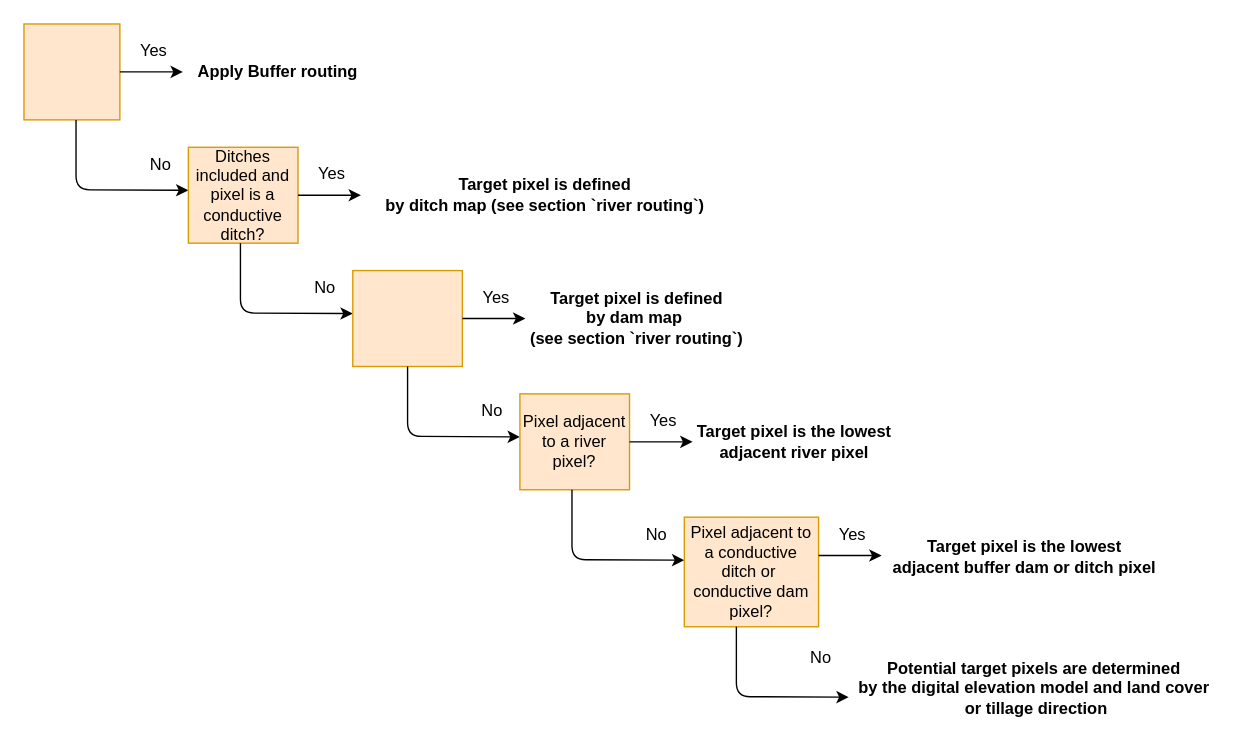
Some shapes in this 1243 by 747 pixel diagram are drawn without their labels. Each missing label, with the box of its shape:
Buffers included and pixel is a buffer?: (23, 23, 120, 120)
Dams included and pixel is a conductive buffer dam?: (351, 269, 462, 366)
